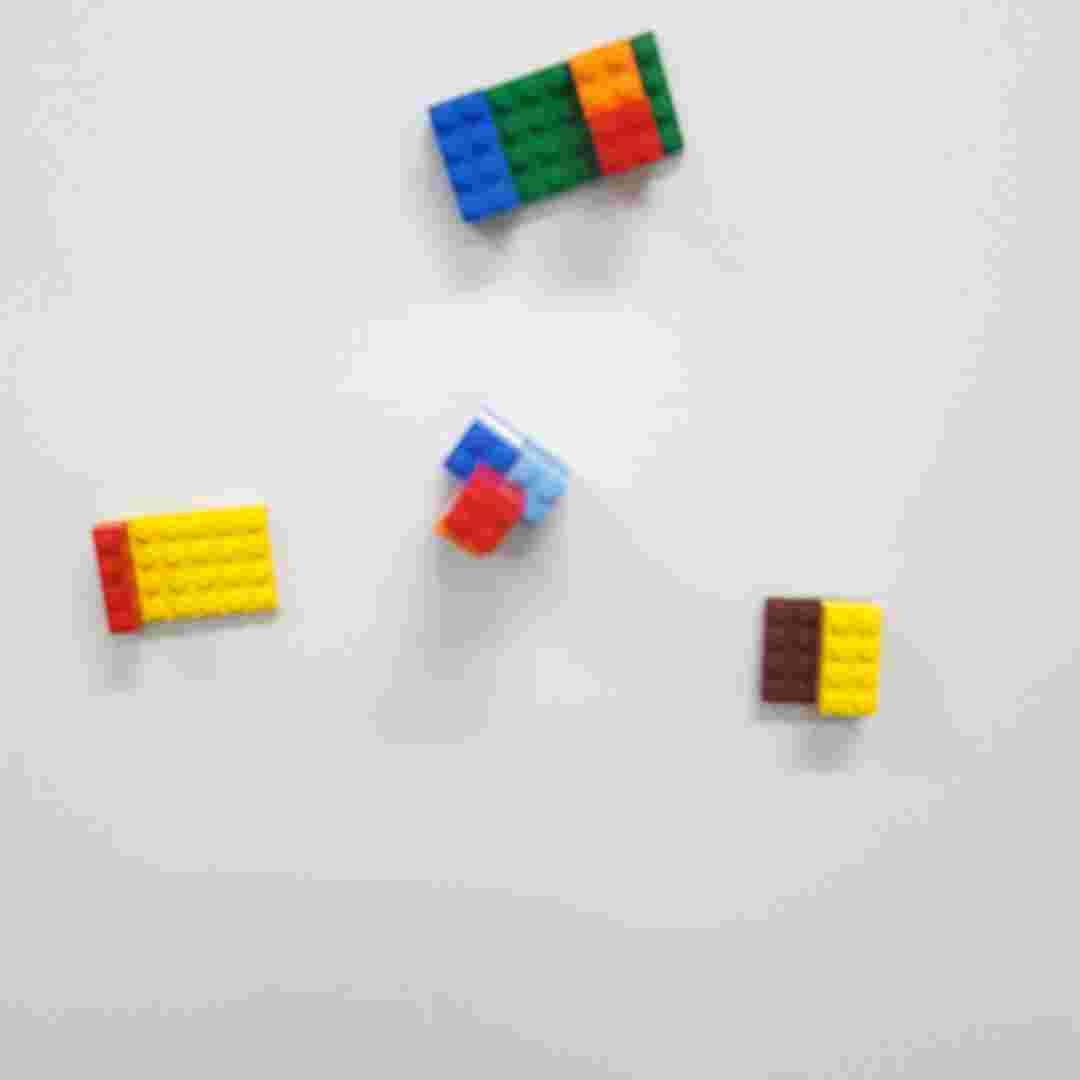LEGO: (423, 30, 687, 223), (88, 499, 286, 637), (431, 409, 572, 563), (762, 593, 885, 724)
